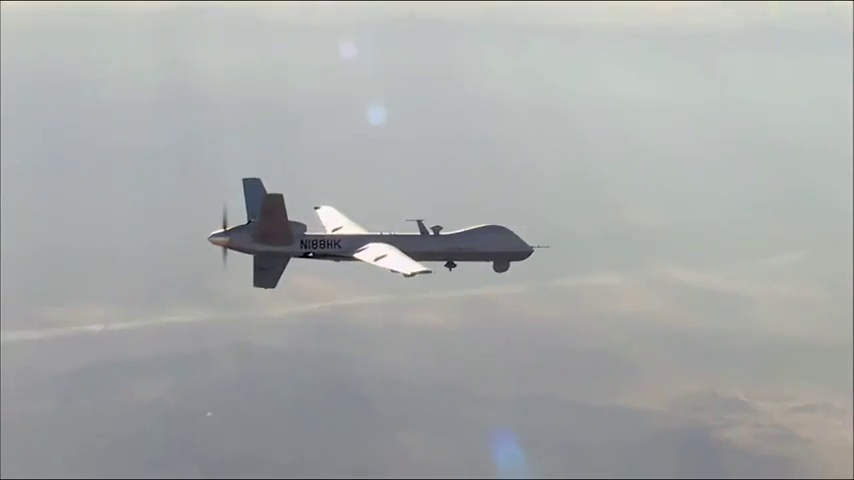military drone: (207, 177, 550, 289)
